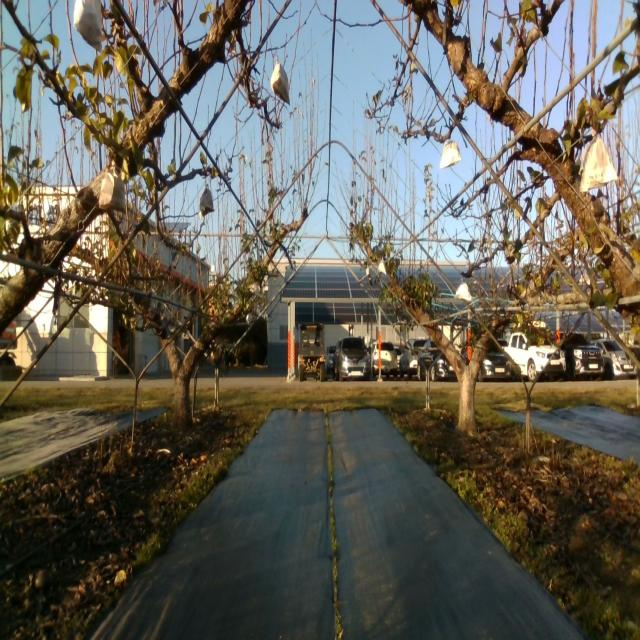pearbags: (579, 135, 617, 191), (98, 160, 127, 213), (73, 0, 103, 51), (270, 57, 290, 107), (440, 136, 461, 169), (198, 183, 214, 220), (455, 278, 471, 302)
